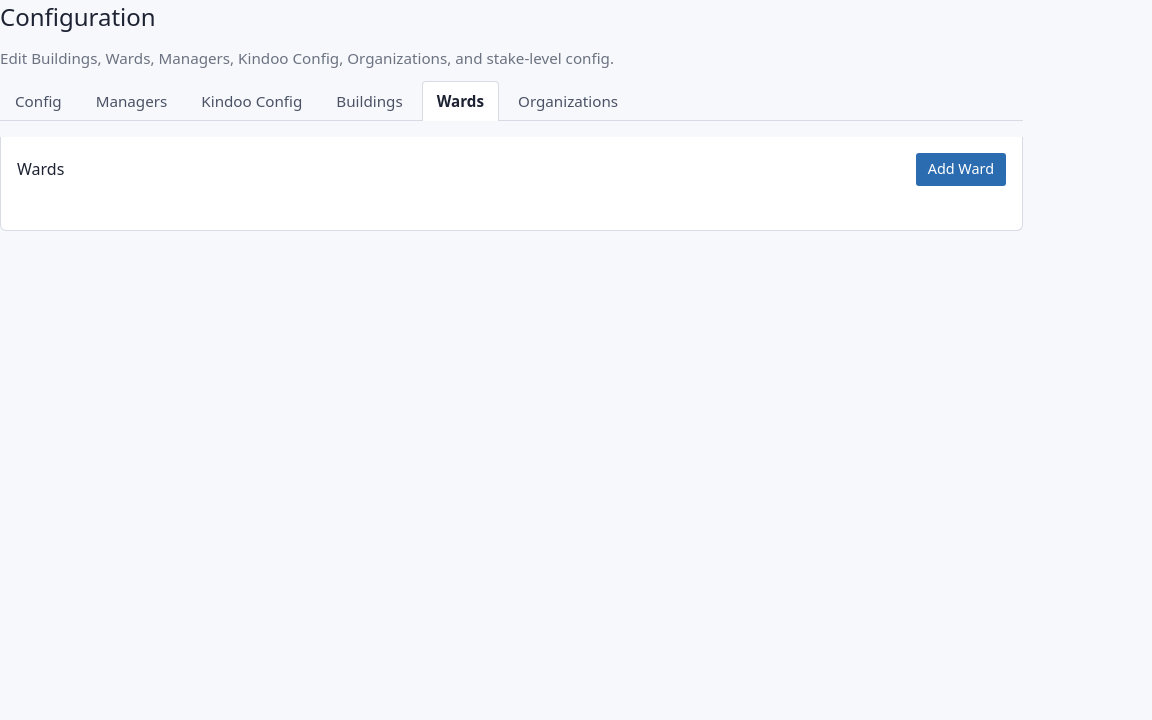
<ConfigurationPage /> › opens the Add Ward modal from the section header
Click the button with test id "config-wards-add-button": [961, 169] box top-left (916, 153), bottom-right (1006, 186)
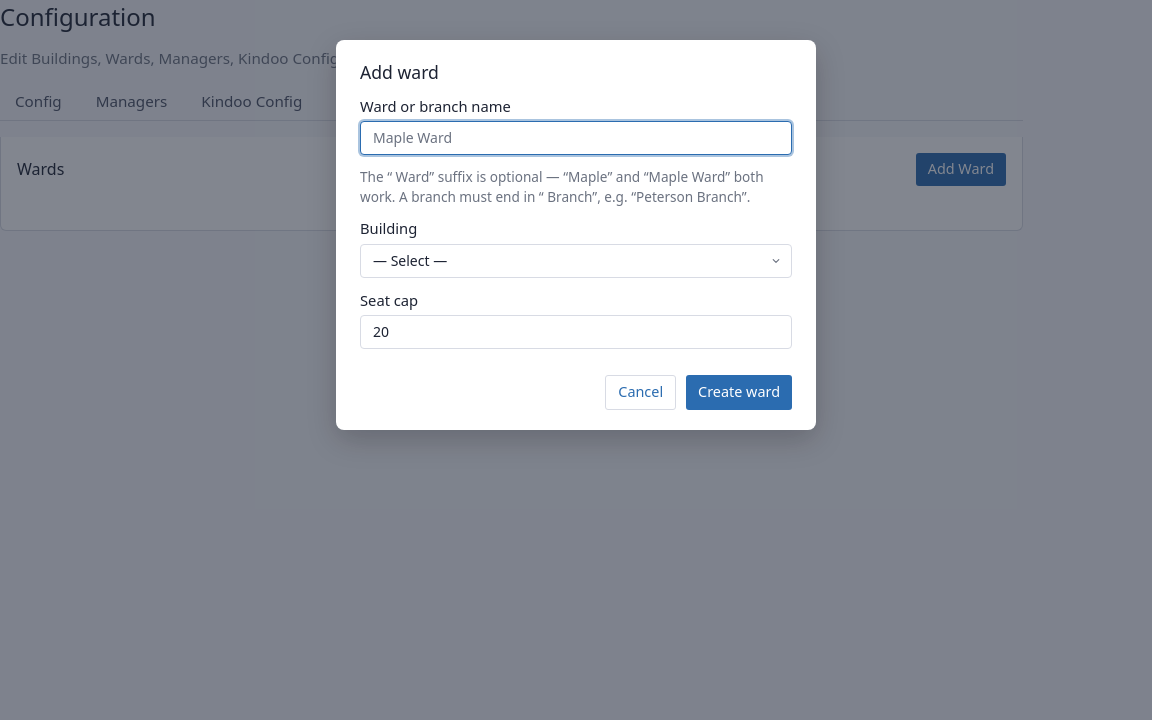
Expected: the form with test id "config-ward-form" is shown, top-left (360, 96), bottom-right (792, 410)
Expected: the heading "Add ward" is shown, top-left (360, 60), bottom-right (439, 84)
